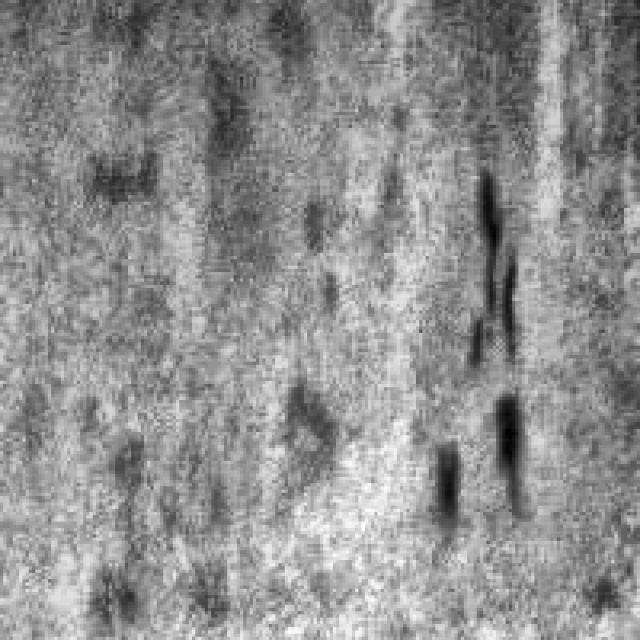Patches: (451, 156, 528, 378), (476, 387, 532, 522), (419, 436, 461, 534)
